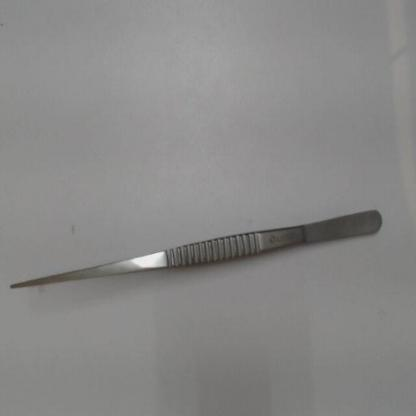DeBakey Dissector: (5, 193, 397, 298)
